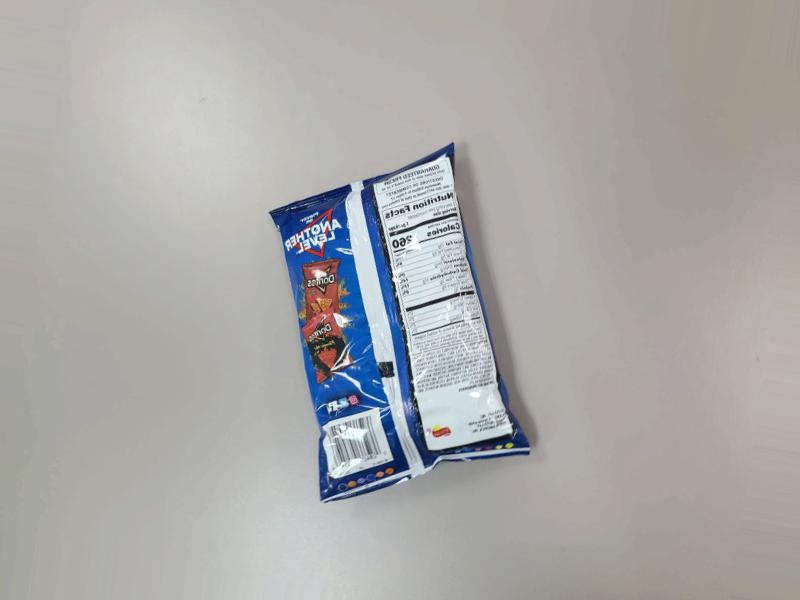doritos: (288, 188, 523, 463)
